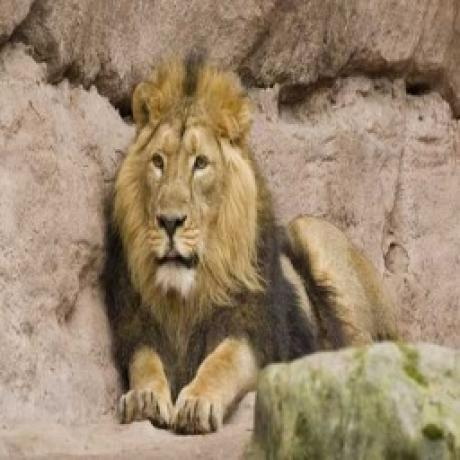Lion: (102, 53, 402, 437)
